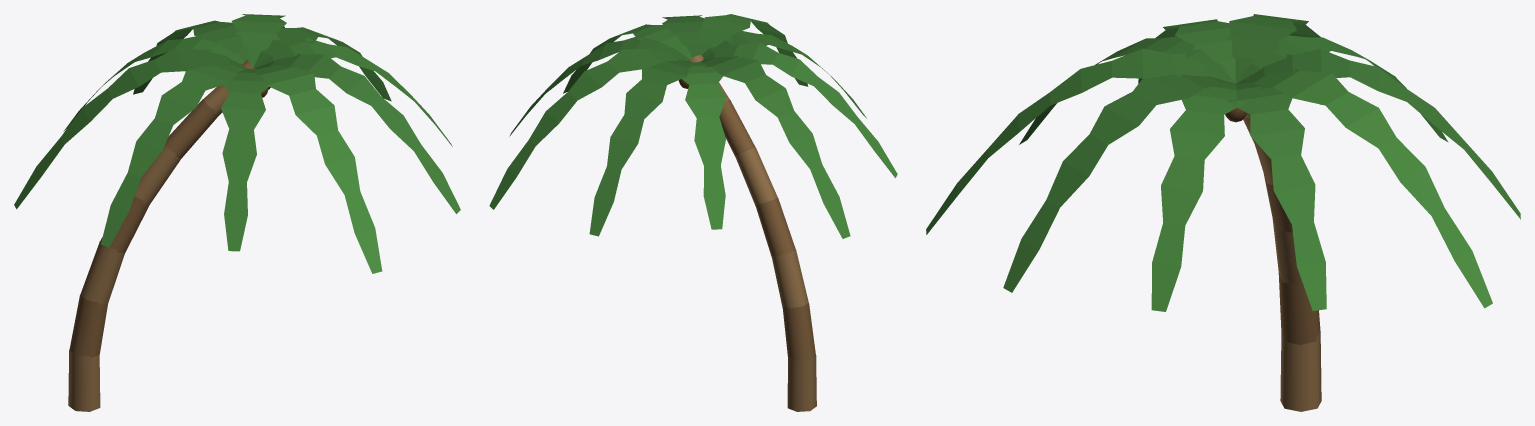
File: Palm0.glb
The picture shows the model from 3 angles, left to right: view 1: azimuth 30°, elevation 25°; view 2: azimuth 150°, elevation 25°; view 3: azimuth 270°, elevation 25°; orthographic projection. The views are drawn at different scales.
Visible parts, largest first — view 1: Palm0; view 2: Palm0; view 3: Palm0.
Part boxes in pixels (x1,y1,x2,y2): Palm0: [14, 14, 460, 411]; Palm0: [489, 14, 897, 411]; Palm0: [926, 14, 1520, 411].
Bounding box in the file's own units: 7.8 × 6.71 × 8.45.
